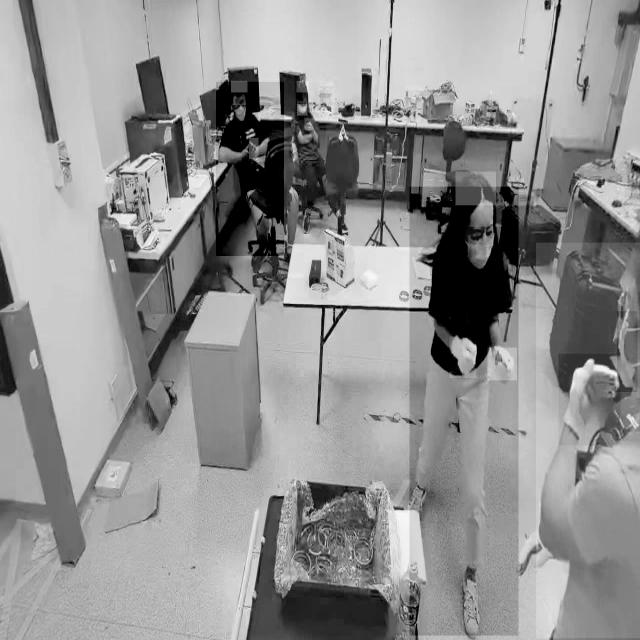face_mask: (464, 226, 504, 274), (617, 311, 637, 392), (232, 105, 249, 124), (297, 104, 307, 116)
hand_glove: (558, 354, 620, 445), (449, 337, 476, 378), (487, 348, 517, 380)
hand_noglove: (241, 140, 251, 164), (248, 138, 258, 160), (304, 118, 314, 131)
head_nohelmet: (455, 172, 496, 206), (230, 81, 248, 93), (296, 81, 308, 93)
person: (409, 186, 519, 636), (536, 242, 640, 639), (216, 82, 284, 257), (295, 83, 326, 229)
shoes: (460, 561, 488, 640), (402, 468, 432, 526)
